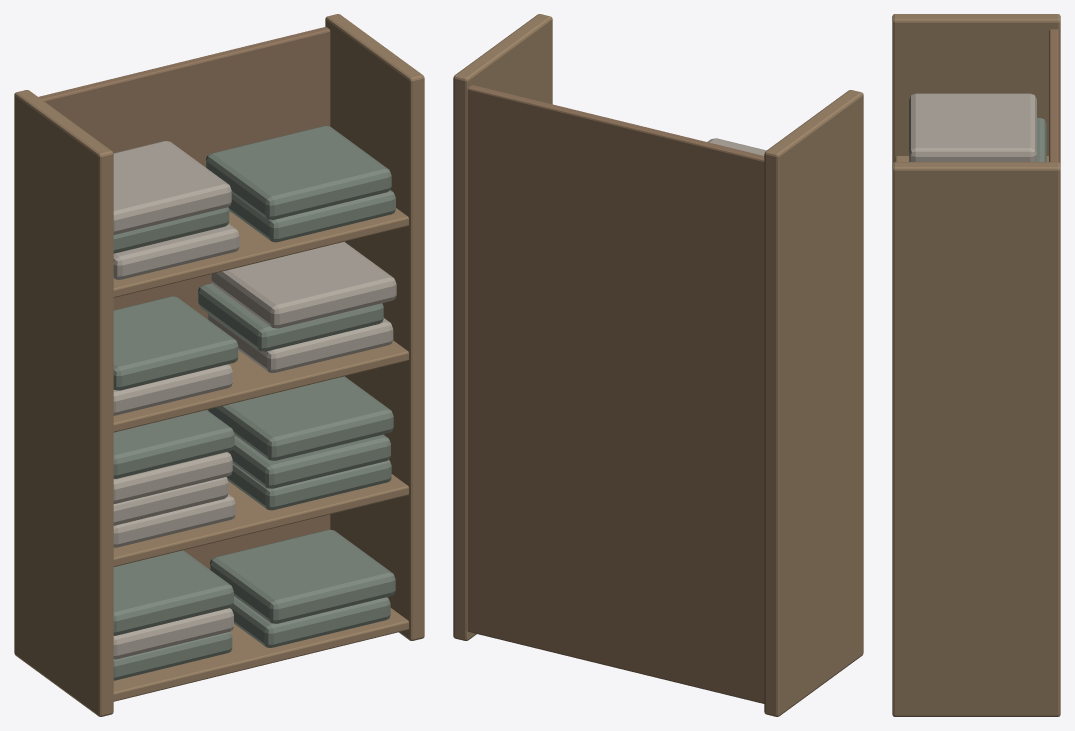
3 views of the same model, side by side, from view 1: azimuth 30°, elevation 25°; view 2: azimuth 150°, elevation 25°; view 3: azimuth 270°, elevation 25° (orthographic). The views are drawn at different scales.
Visible parts, largest first — view 1: stackedLinen; view 2: stackedLinen; view 3: stackedLinen.
Part boxes in pixels (box(x1,y1,x2,y2)): stackedLinen: box(14, 14, 424, 716); stackedLinen: box(453, 14, 863, 716); stackedLinen: box(892, 14, 1060, 716).
Size of the model in its own units: 1.09 by 1.8 by 0.5.
